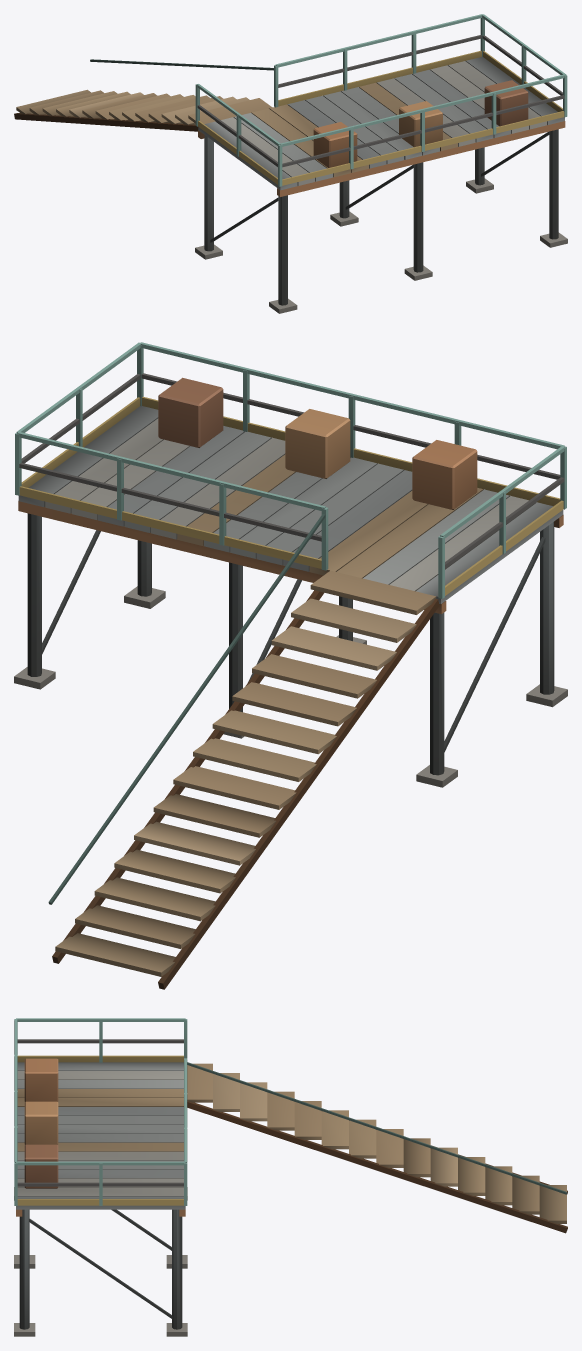
The model's file is deck.glb.
3 renders of one model, top to bottom at view 1: azimuth 30°, elevation 25°; view 2: azimuth 150°, elevation 25°; view 3: azimuth 270°, elevation 25°, orthographic. The views are drawn at different scales.
Parts seen in each view (by area): view 1: deck; view 2: deck; view 3: deck.
Part boxes in pixels (x1,y1,x2,y2): deck: [14, 14, 567, 313]; deck: [14, 342, 567, 989]; deck: [14, 1018, 567, 1336].
Size of the model in its own units: 8.1 by 4.59 by 13.07.
